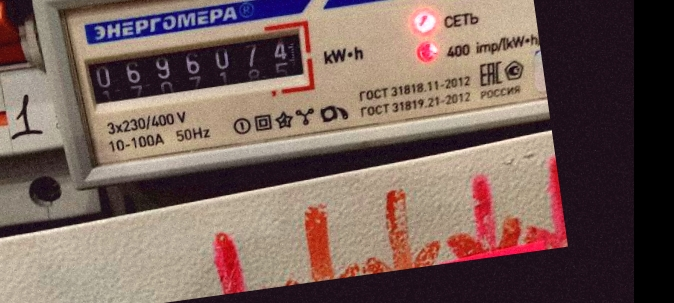0: (91, 62, 113, 89), (211, 44, 231, 71)
4: (269, 36, 288, 60)
5: (273, 61, 291, 78)
6: (183, 48, 203, 76), (122, 58, 143, 84)
7: (241, 41, 261, 68)
9: (152, 53, 171, 81)
screen: (72, 15, 319, 117)
